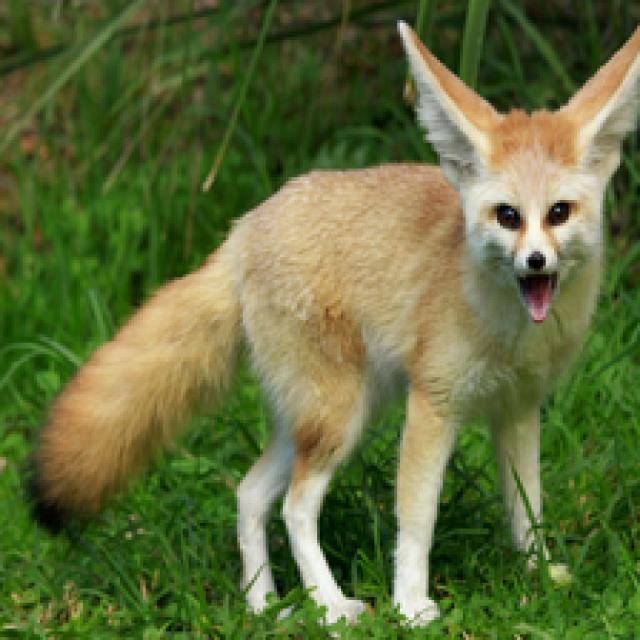fox: (51, 3, 640, 632)
